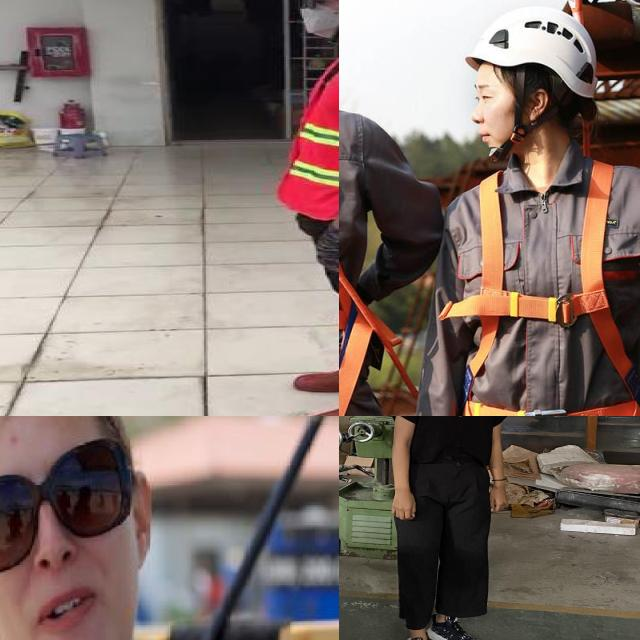Harness: (455, 161, 640, 416), (339, 96, 387, 416)
No_Ear-Protection: (523, 89, 548, 123)
boots: (287, 308, 339, 394), (293, 349, 339, 416)
face_mask: (291, 0, 339, 38)
face_nomask: (0, 458, 139, 640)
glasses: (0, 443, 137, 561)
hand_glove: (310, 228, 339, 274)
hand_noglove: (386, 489, 421, 524), (489, 485, 508, 514)
person: (0, 416, 307, 640), (248, 0, 339, 416), (377, 416, 521, 640)
shoes: (421, 612, 485, 640)
vest: (278, 43, 339, 221)
